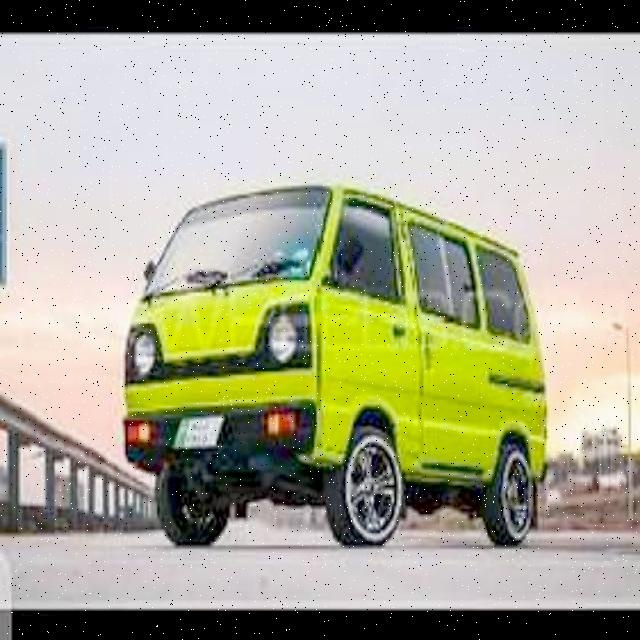Van: (120, 175, 550, 550)
